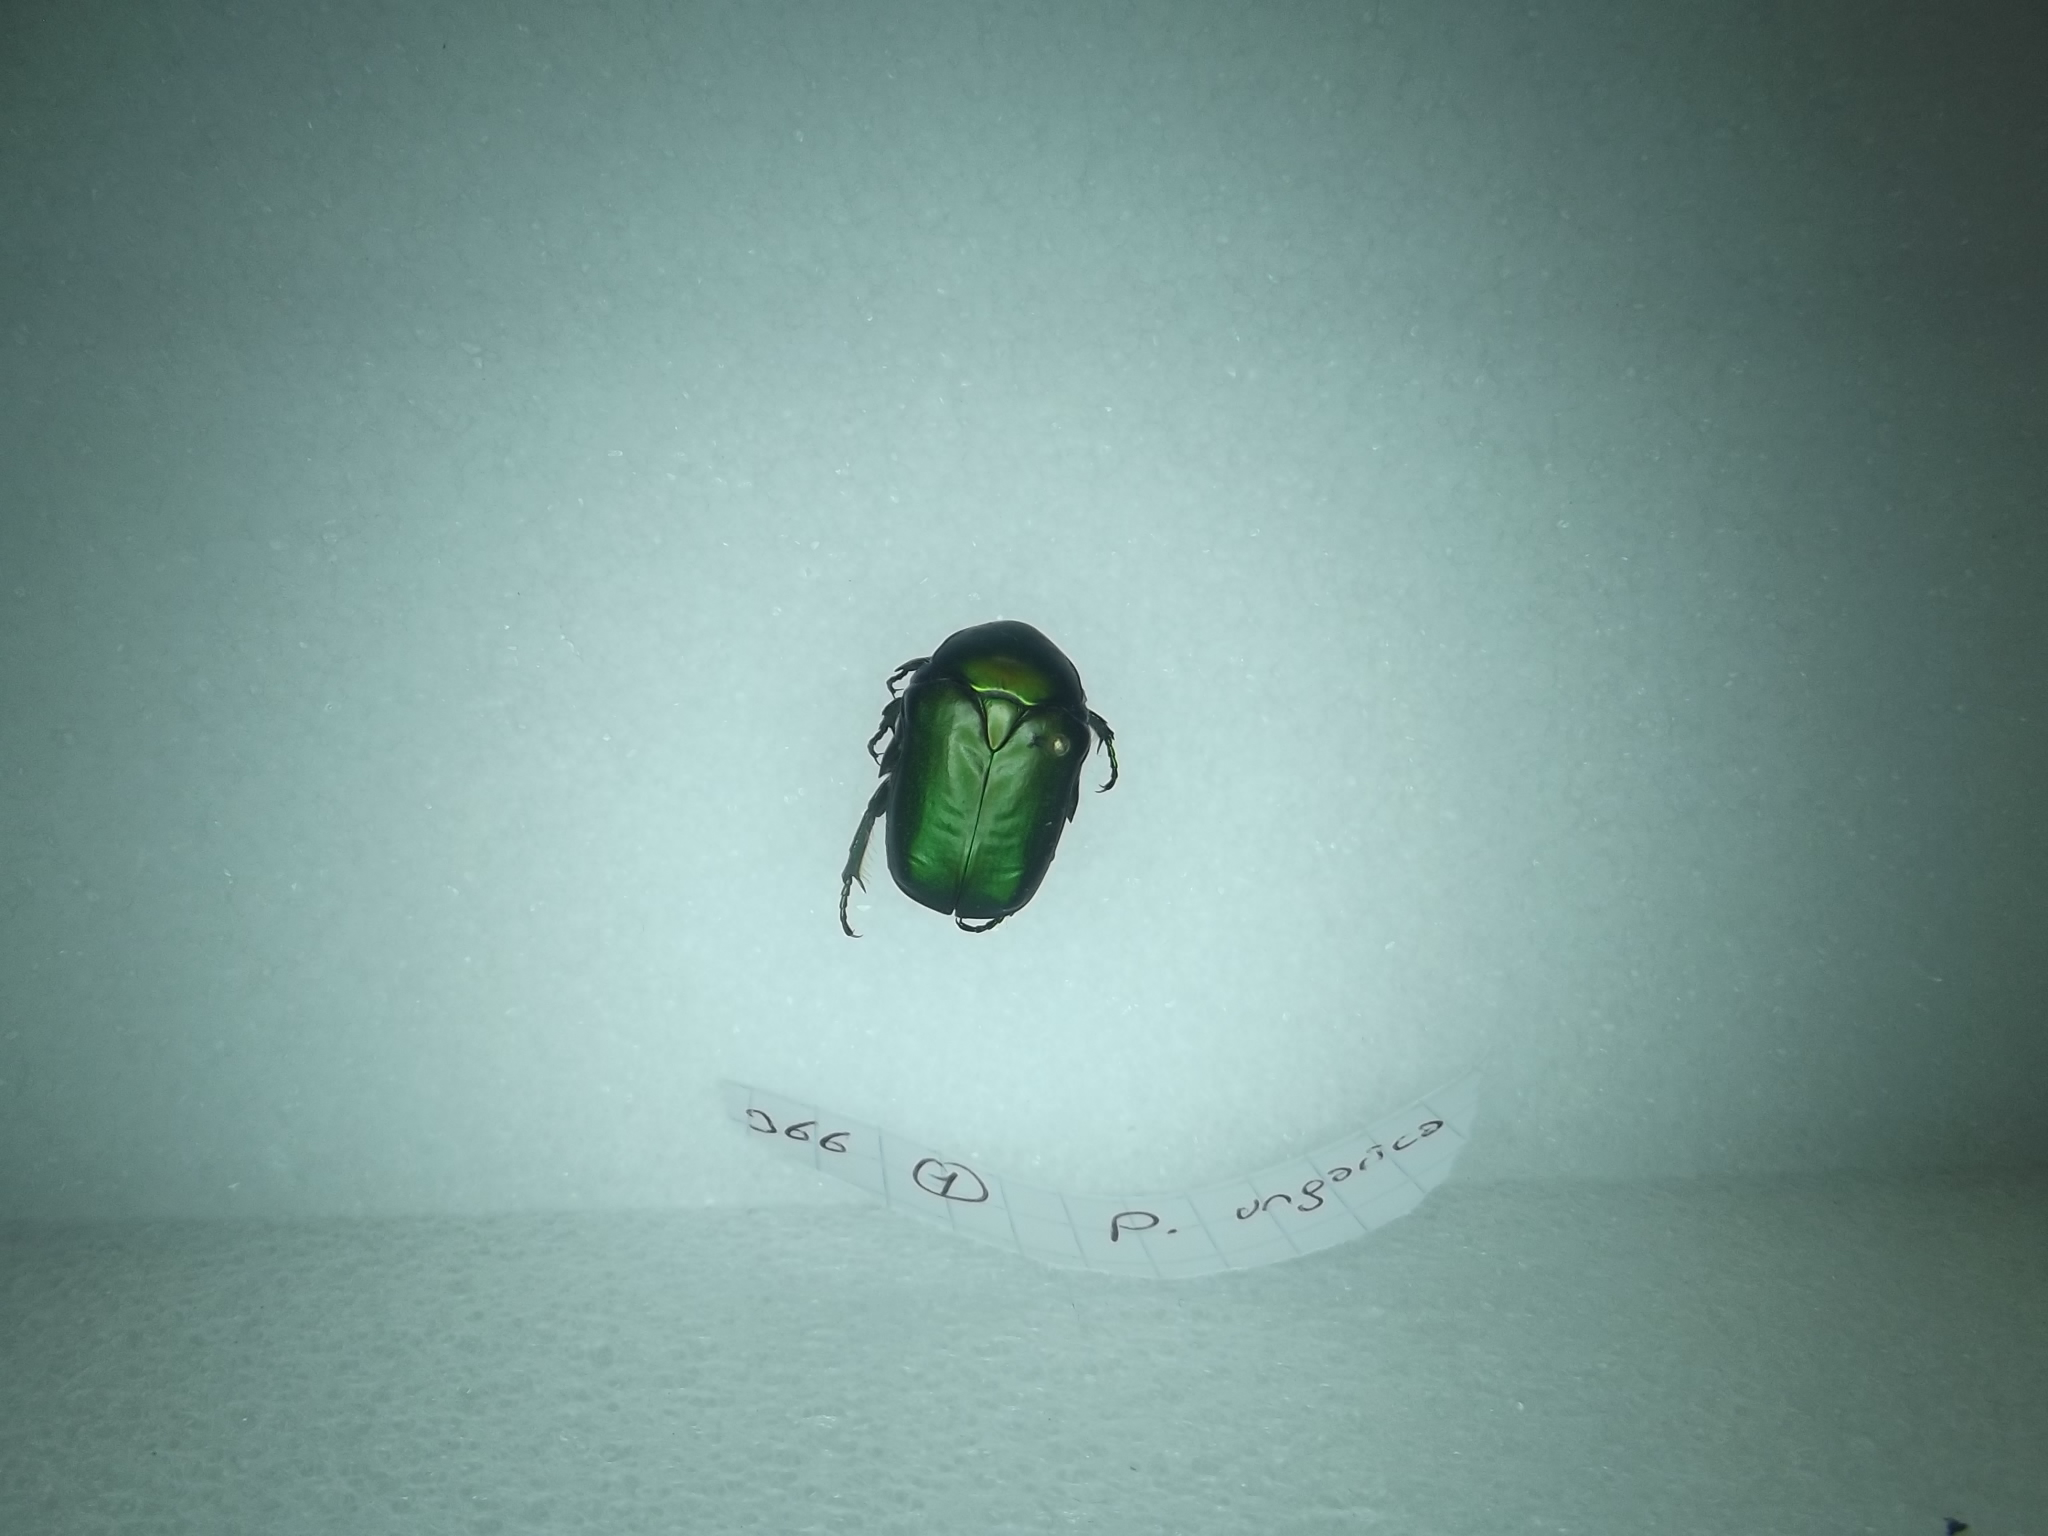Protaetia_ungarica_americana: (818, 594, 1143, 942)
